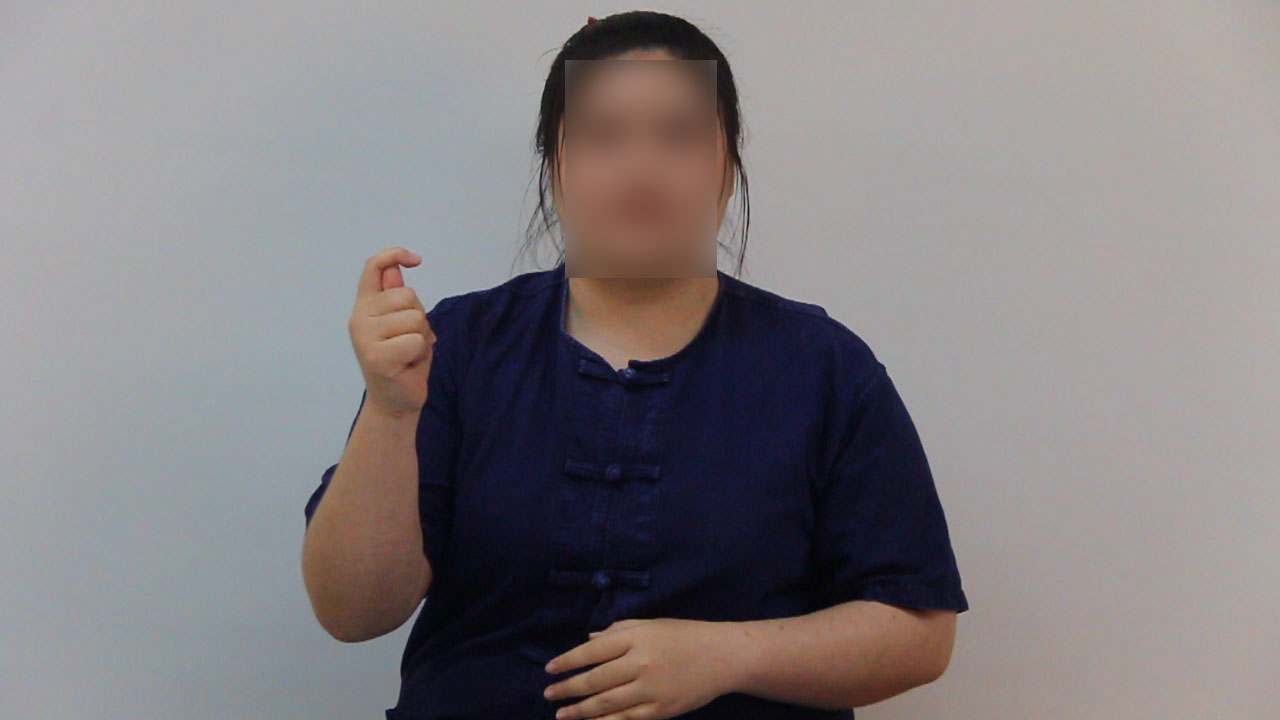or: (346, 242, 443, 437)
